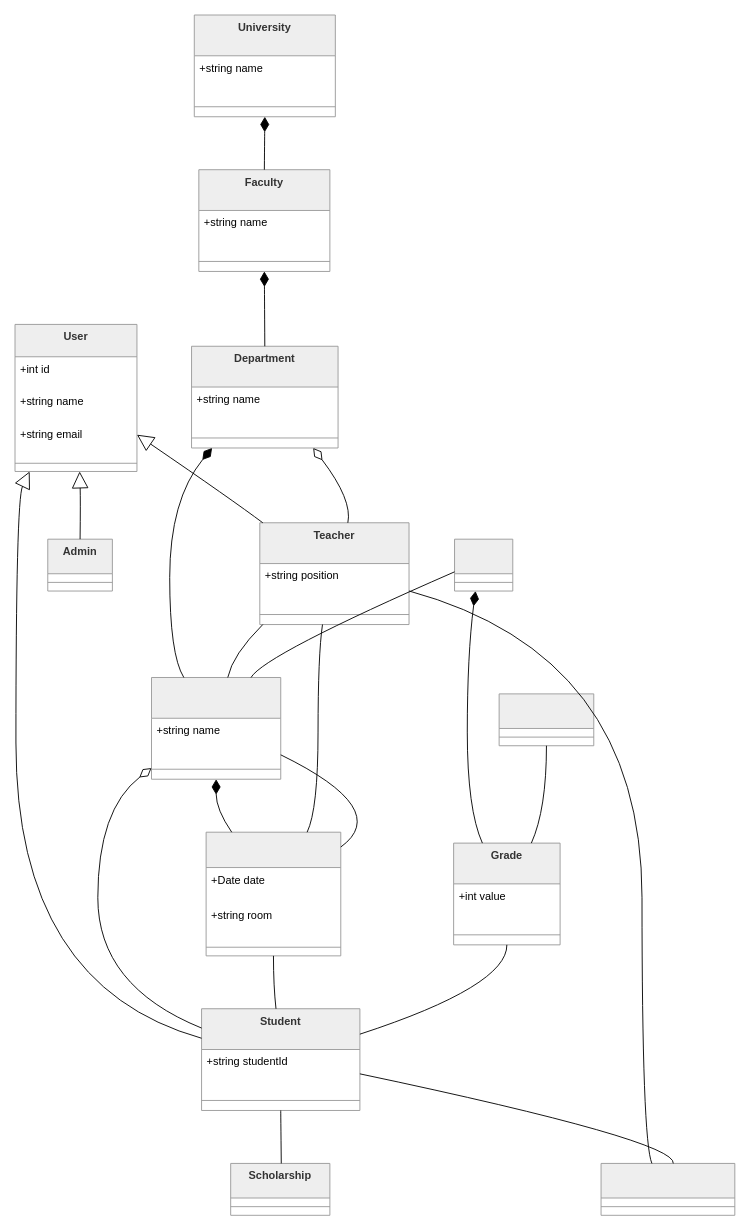
This 750x1230 diagram has some shape labels left out. Each missing label, with the box of its shape:
Course: (151, 677, 281, 779)
Exam: (454, 538, 513, 591)
GradeBook: (498, 693, 594, 746)
ResearchProject: (600, 1163, 735, 1215)
Schedule: (205, 831, 341, 956)
